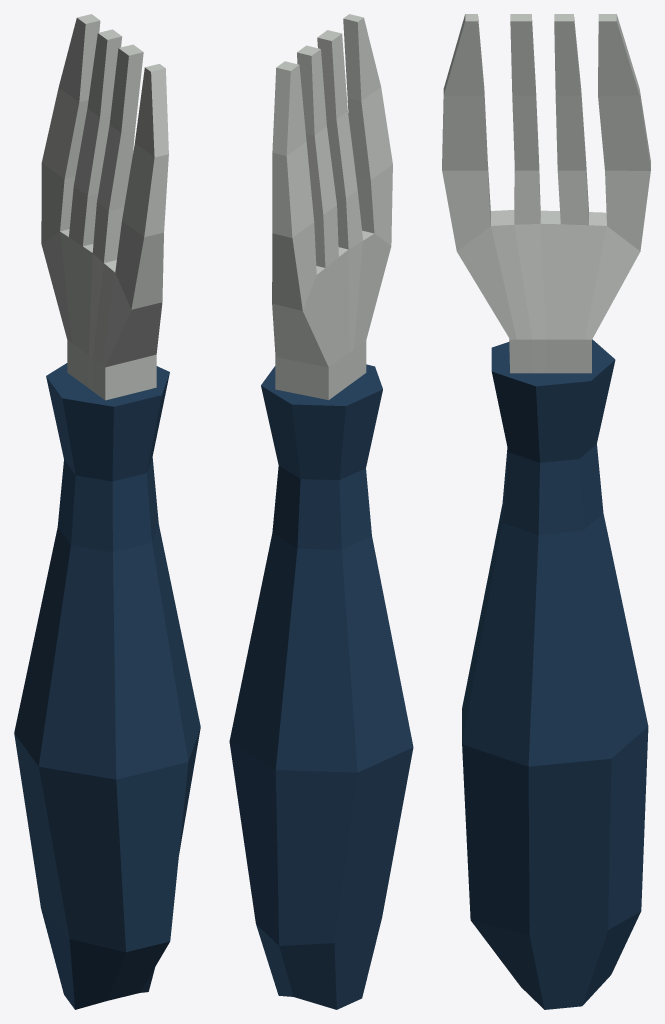
Rendered from fork-navy.fbx.
The picture shows the model from 3 angles, left to right: view 1: azimuth 30°, elevation 25°; view 2: azimuth 150°, elevation 25°; view 3: azimuth 270°, elevation 25°; orthographic projection. The views are drawn at different scales.
Parts seen in each view (by area): view 1: fork.005; view 2: fork.005; view 3: fork.005.
Part boxes in pixels (<box>): fork.005: <box>14,14,200,1009</box>; fork.005: <box>229,14,413,1009</box>; fork.005: <box>442,14,650,1009</box>.
Bounding box in the file's own units: 142 × 800 × 155.
